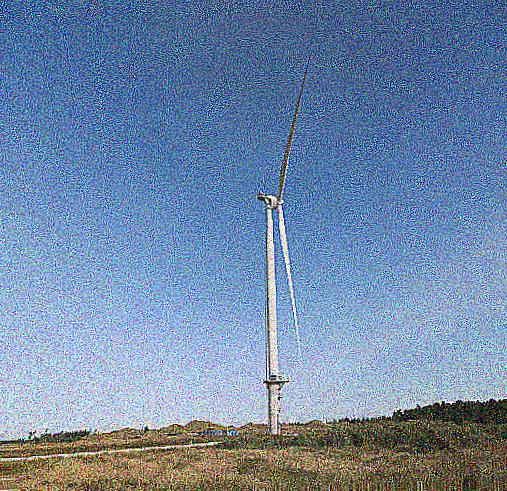wind turbine: (255, 51, 319, 428)
